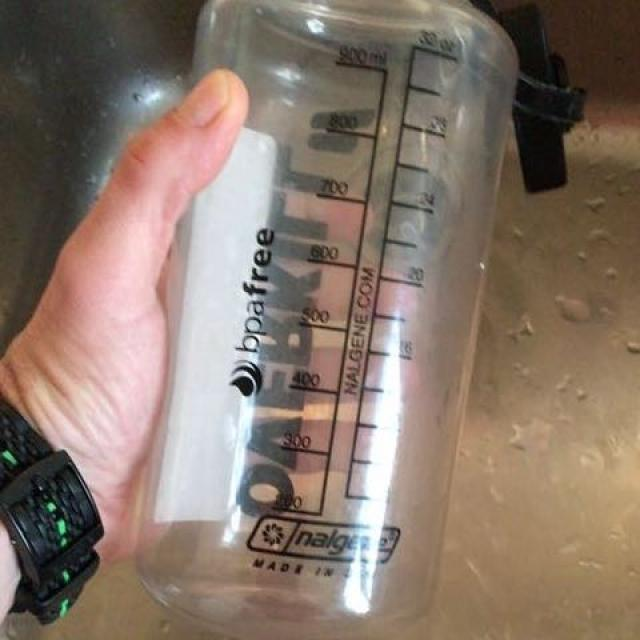water: (127, 2, 510, 632)
